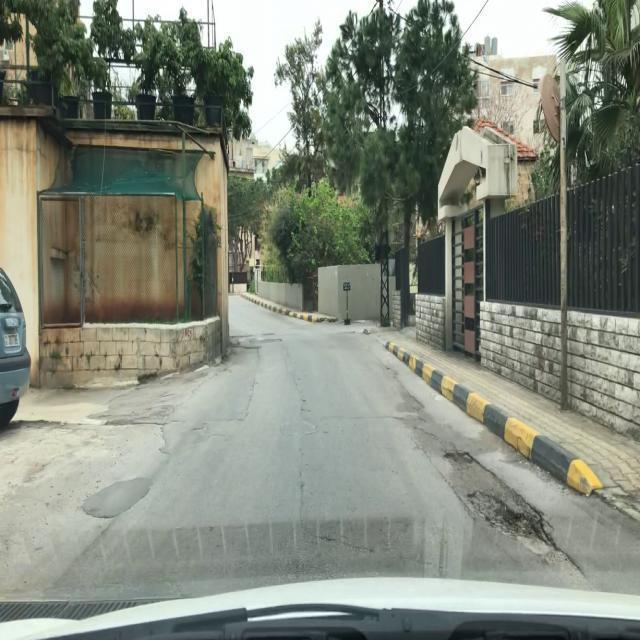pothole: (465, 486, 555, 552), (445, 447, 474, 467)
